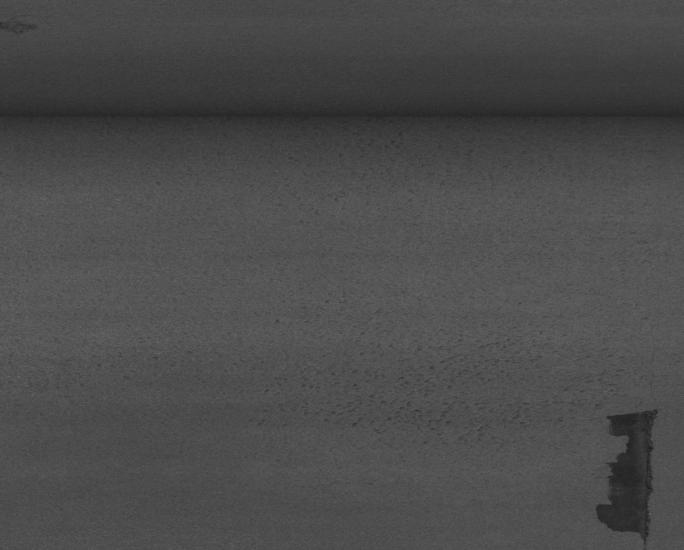剥落: (594, 361, 642, 535)
